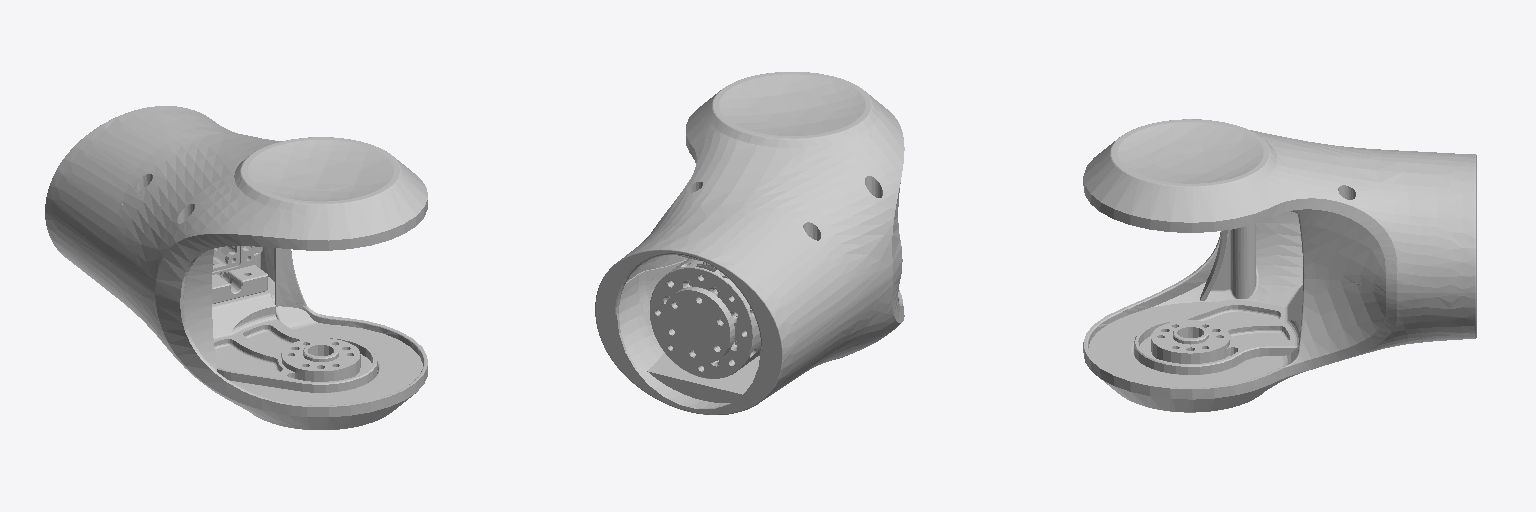
Rendered from r_foream.obj.
3 renders of one model, left to right at view 1: azimuth 30°, elevation 25°; view 2: azimuth 150°, elevation 25°; view 3: azimuth 270°, elevation 25°, orthographic.
Visible parts, largest first — view 1: obj1; view 2: obj1; view 3: obj1.
Boxes of the visible parts, <box> form: obj1: <box>45,106,427,429</box>; obj1: <box>595,72,904,414</box>; obj1: <box>1083,119,1476,412</box>.
Size of the model in its own units: 0.1151 by 0.11 by 0.1732.